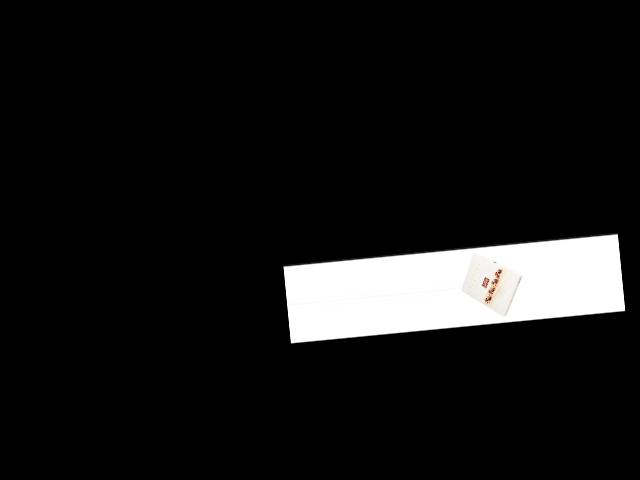chocolate: (459, 248, 528, 325)
